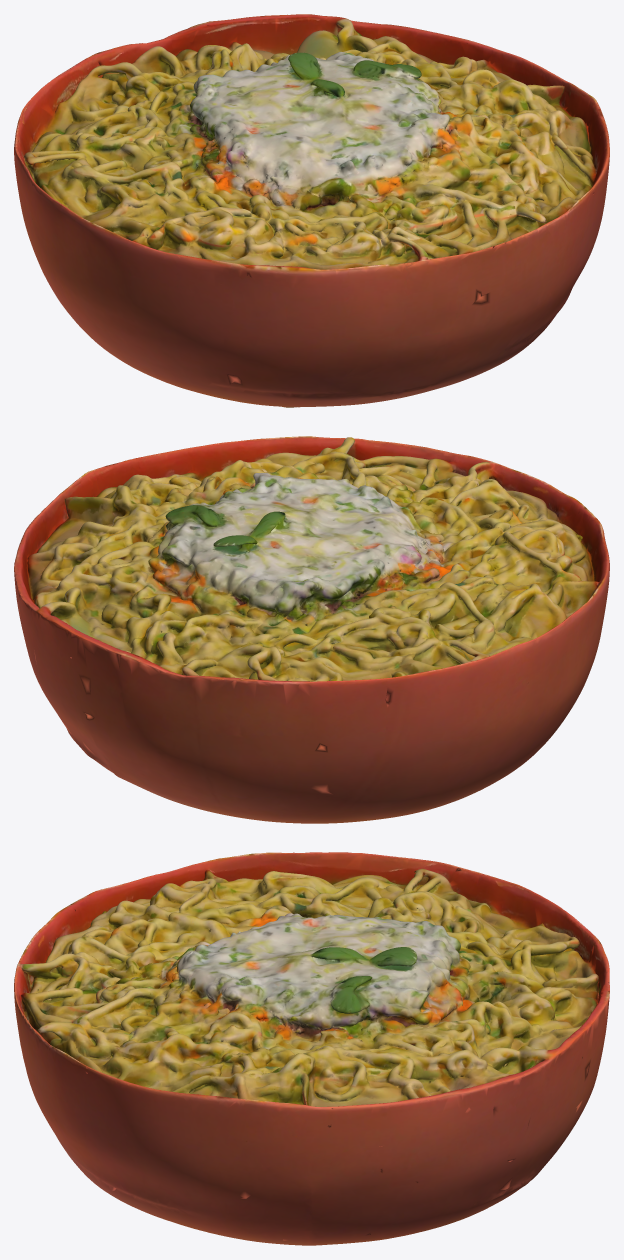
Rendered from maggi .glb.
3 views of the same model, one above another, from view 1: azimuth 30°, elevation 25°; view 2: azimuth 150°, elevation 25°; view 3: azimuth 270°, elevation 25° (orthographic).
Size of the model in its own units: 1.99 by 0.9551 by 2.
Materials: 1 (1 with a texture image).
